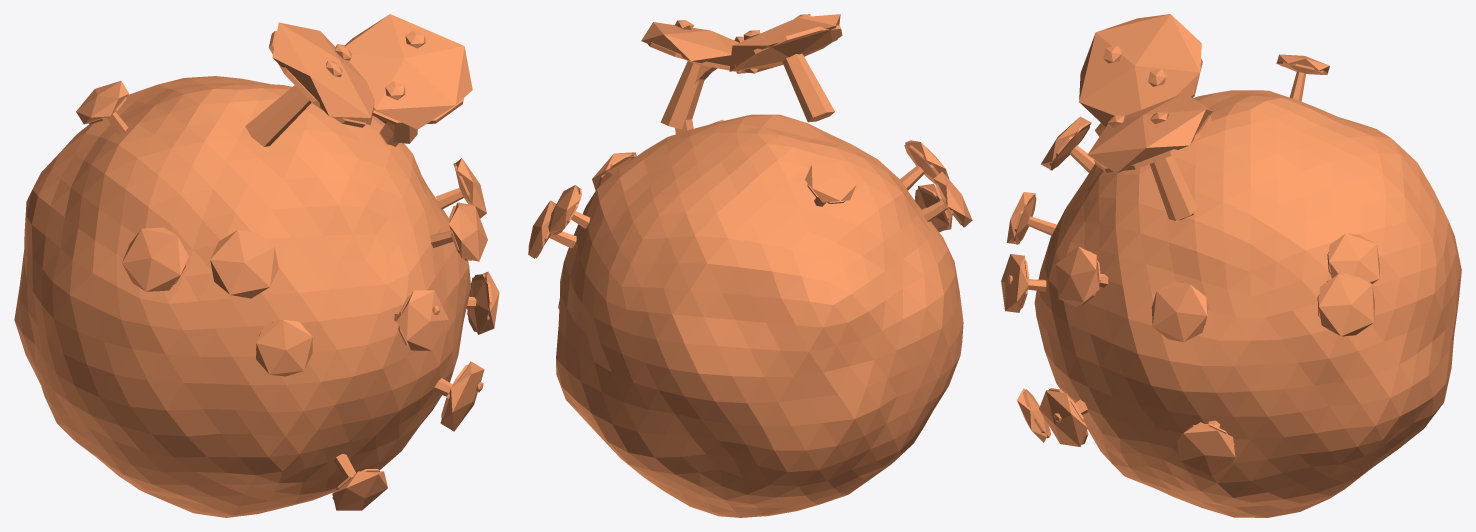
File: Mushroom_04.fbx
3 renders of one model, left to right at view 1: azimuth 30°, elevation 25°; view 2: azimuth 150°, elevation 25°; view 3: azimuth 270°, elevation 25°, orthographic. The views are drawn at different scales.
Parts seen in each view (by area): view 1: Mushroom_04; view 2: Mushroom_04; view 3: Mushroom_04.
Boxes of the visible parts, box(x1,y1,x2,y2) form: Mushroom_04: box(14, 14, 499, 517); Mushroom_04: box(528, 14, 972, 517); Mushroom_04: box(1001, 14, 1461, 517).
Size of the model in its own units: 6.66 by 7.55 by 6.55.
